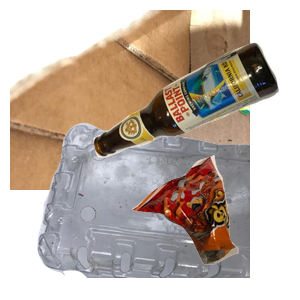cardboard: (10, 10, 250, 190)
glass: (91, 40, 300, 190)
plastic: (35, 120, 275, 300)
trash: (130, 153, 300, 300)
